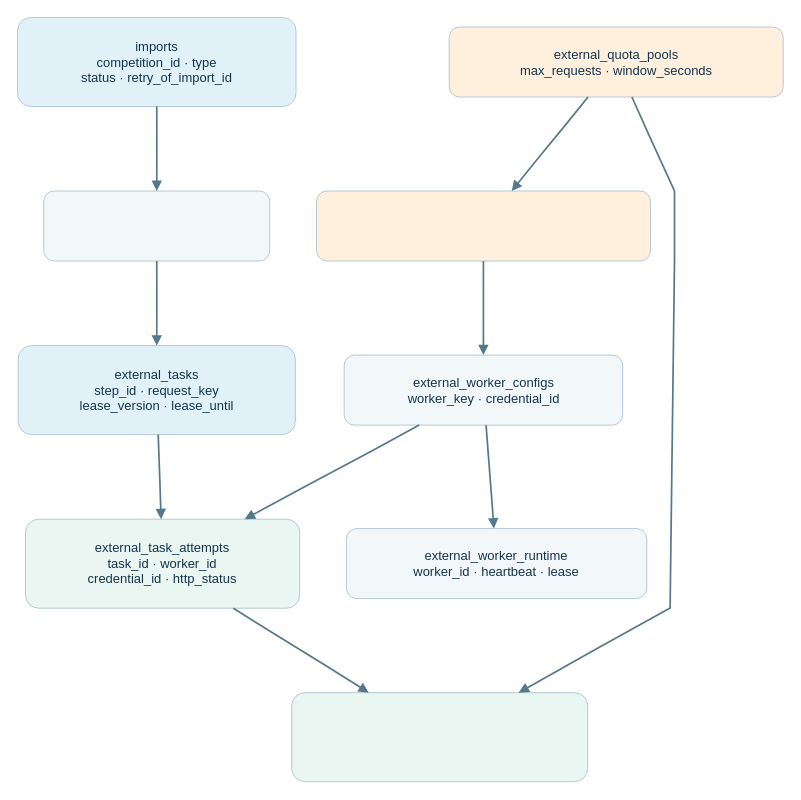
Image size: 801x800. Some labels were removed from this diagram. The shapes that lost their labels are listed below. From the top down, each one's box as (x1, y1, x2, y2) in pixels, then its label:
(43, 190, 270, 261): import_steps import_id · step_key
(316, 190, 650, 261): external_credentials secret_reference · quota_pool_id
(291, 692, 588, 782): external_quota_reservations task_id · attempt_id worker_id · pool_id
